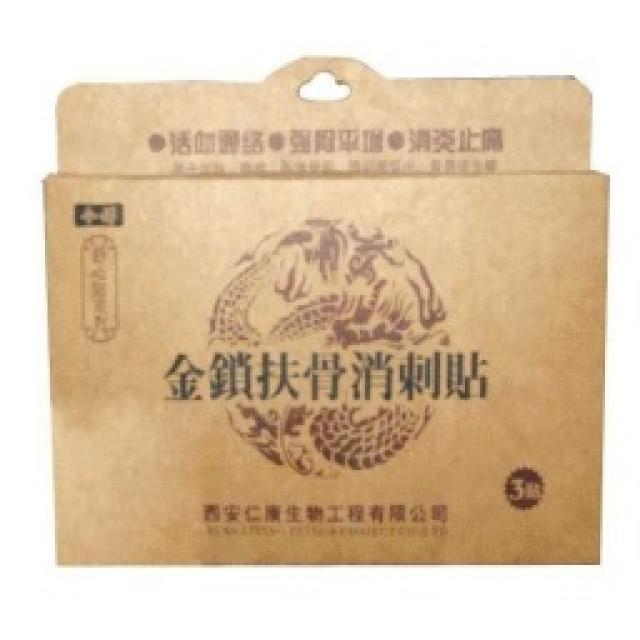box: (62, 66, 610, 584)
